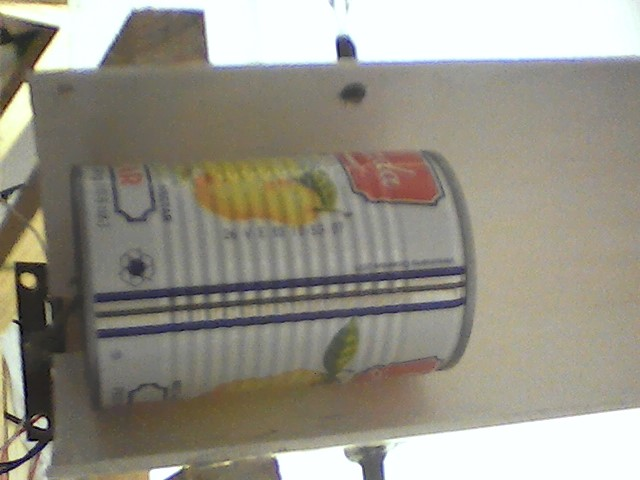lata: (66, 146, 489, 416)
